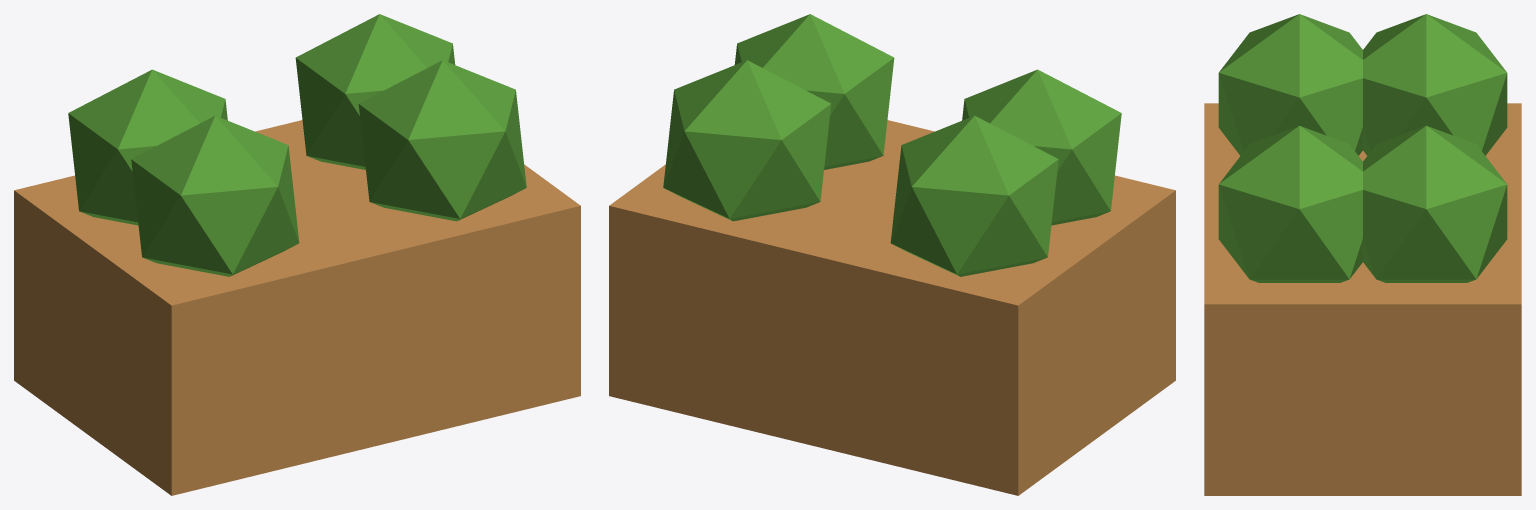
The model's file is crate_herbs.glb.
The picture shows the model from 3 angles, left to right: view 1: azimuth 30°, elevation 25°; view 2: azimuth 150°, elevation 25°; view 3: azimuth 270°, elevation 25°; orthographic projection.
Visible parts, largest first — view 1: crate_herbs; view 2: crate_herbs; view 3: crate_herbs.
Boxes of the visible parts, bbox=[...] form: crate_herbs: bbox=[14, 14, 580, 495]; crate_herbs: bbox=[609, 14, 1175, 495]; crate_herbs: bbox=[1204, 14, 1521, 495].
Size of the model in its own units: 0.9 by 0.68 by 0.6.
